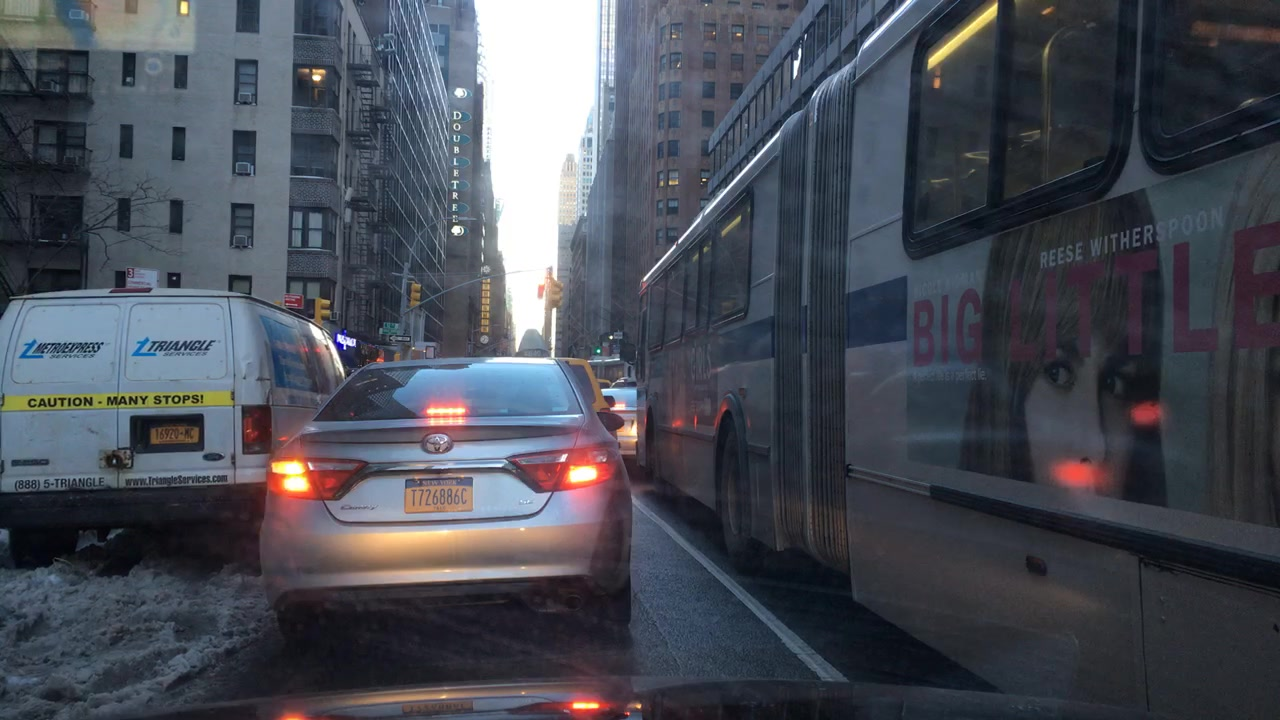licence: (403, 472, 475, 517)
